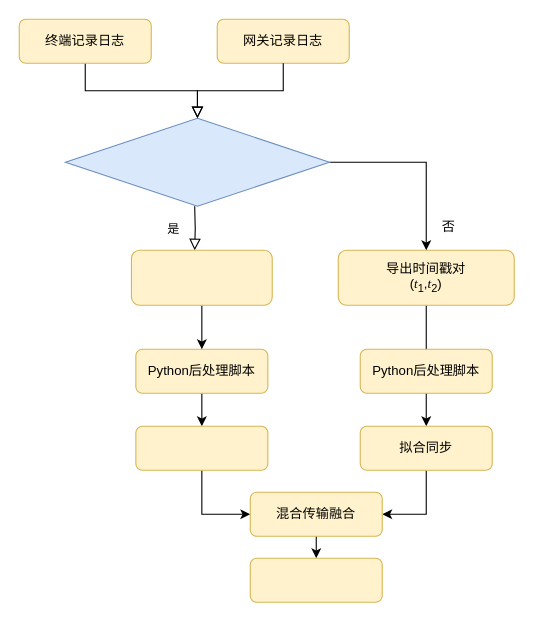
Image size: 534x622. Some labels were removed from this diagram. The shapes that lost their labels are listed below. From the top down, each one's centre as x and y in pixels, then its label:
[196,161]: 是否是双向同步阶段？
[201,277]: 导出时间戳 ( t 1 ,T 1 ,T 2 ,t 2 )
[201,447]: 漂移建模
[315,579]: 误差可视化分析
